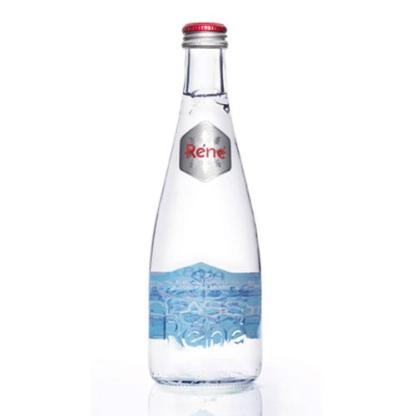Can: (148, 22, 264, 388)
